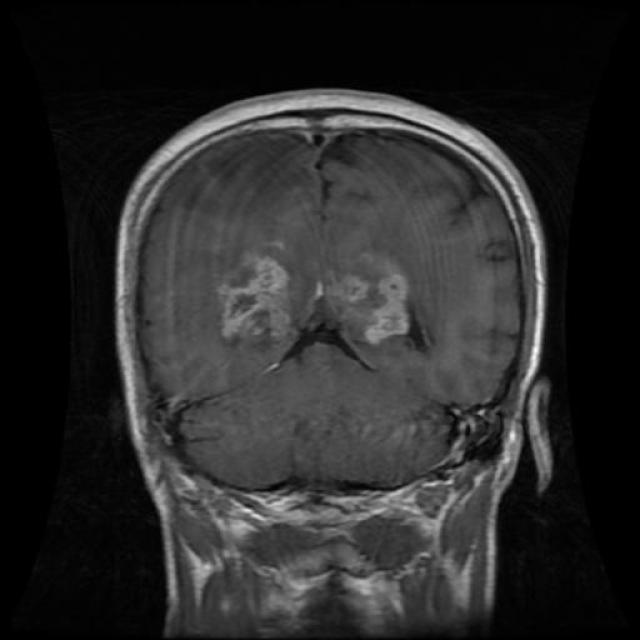glioma: (212, 242, 432, 368)
